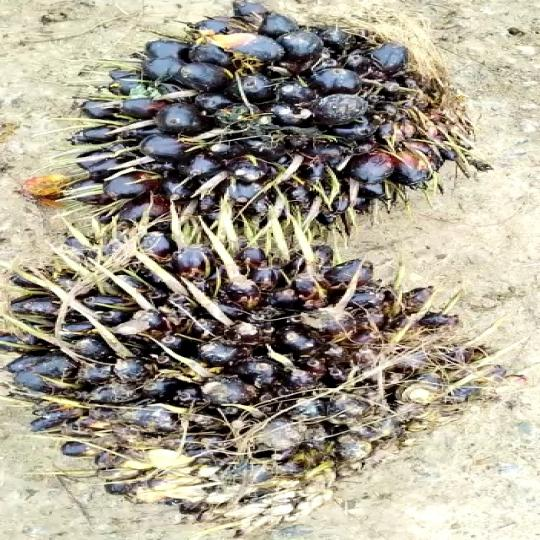mentah: (0, 237, 508, 524), (74, 3, 488, 233)
